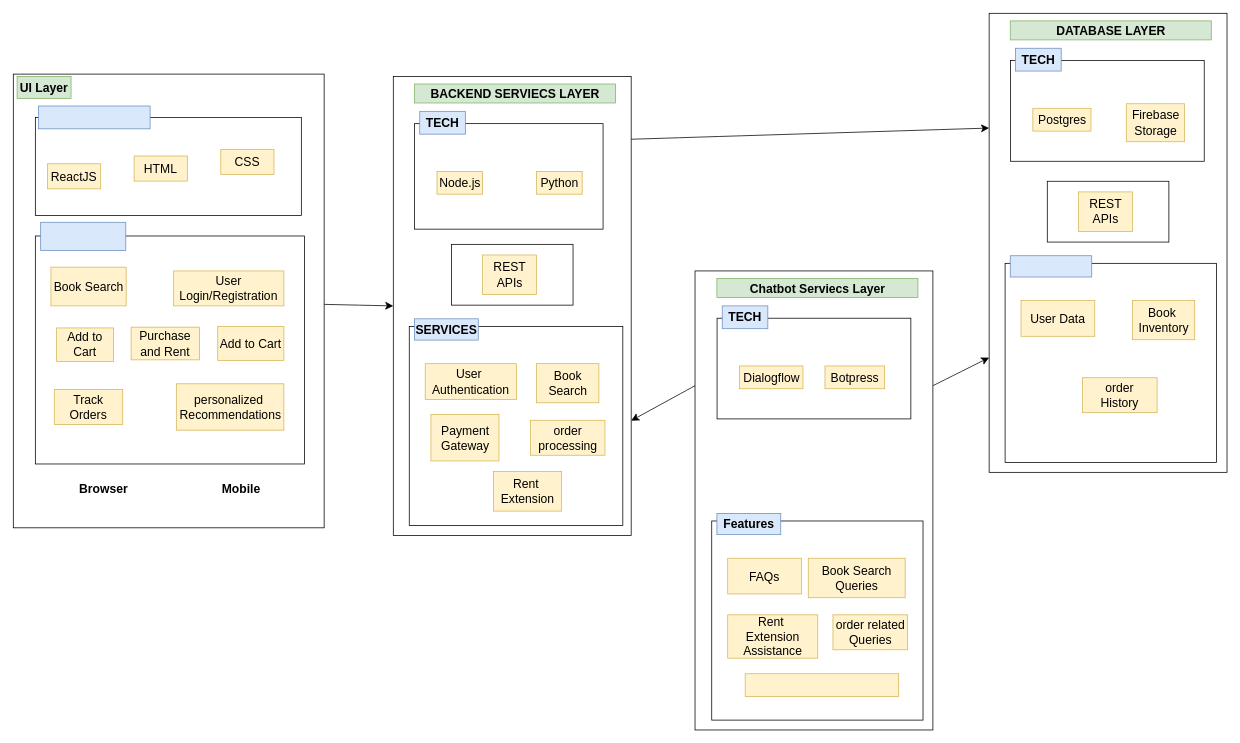
Image size: 1240x743. Some labels were removed from this diagram. The centre of each missing label's shape, as x and y in pixels:
DATA FLOW: the point at 1051,266
FRONTEND TECH: the point at 94,117
Recommendations: the point at 821,685
User Stories: the point at 83,236
